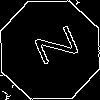Z: (25, 25, 79, 71)
